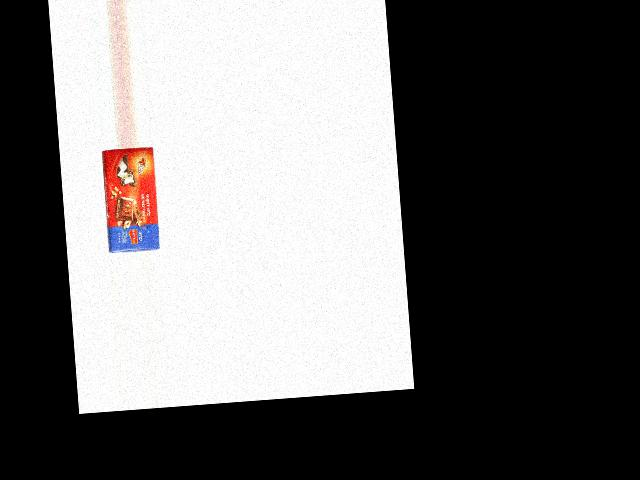chocolate: (97, 146, 159, 252)
